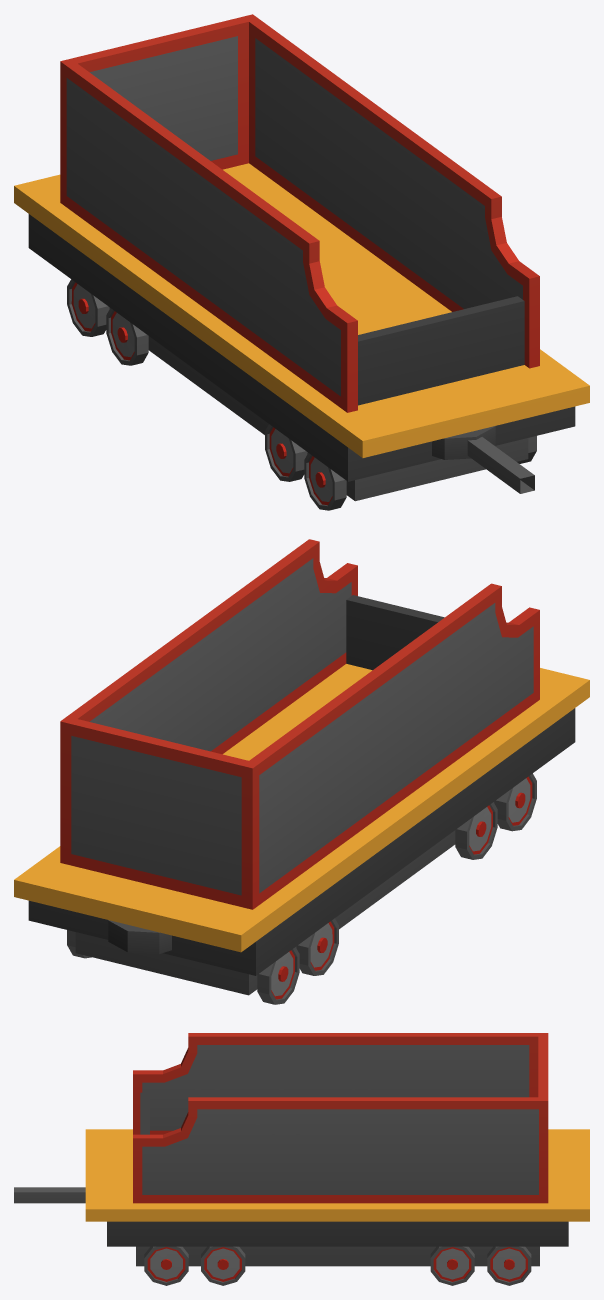
File: freight wagon black.fbx
3 views of the same model, one above another, from view 1: azimuth 30°, elevation 25°; view 2: azimuth 150°, elevation 25°; view 3: azimuth 270°, elevation 25° (orthographic). The views are drawn at different scales.
Parts seen in each view (by area): view 1: freight wagon body, front wheels 2, connecting device, rear wheels 2, rear wheels 1, front wheels 1; view 2: freight wagon body, rear wheels 1, front wheels 1, rear wheels 2, front wheels 2; view 3: freight wagon body, front wheels 1, front wheels 2, rear wheels 1, rear wheels 2, connecting device.
Part boxes in pixels (left/top/right/bottom): freight wagon body: left=14, top=14, right=589, bottom=501; front wheels 2: left=304, top=436, right=536, bottom=510; connecting device: left=467, top=437, right=534, bottom=493; rear wheels 2: left=106, top=308, right=148, bottom=365; rear wheels 1: left=67, top=279, right=109, bottom=336; front wheels 1: left=265, top=424, right=307, bottom=481; freight wagon body: left=14, top=539, right=589, bottom=995; rear wheels 1: left=67, top=930, right=299, bottom=1004; front wheels 1: left=455, top=802, right=497, bottom=859; rear wheels 2: left=296, top=918, right=338, bottom=975; front wheels 2: left=494, top=773, right=536, bottom=831; freight wagon body: left=85, top=1033, right=589, bottom=1266; front wheels 1: left=201, top=1246, right=245, bottom=1285; front wheels 2: left=144, top=1246, right=188, bottom=1285; rear wheels 1: left=487, top=1246, right=531, bottom=1285; rear wheels 2: left=430, top=1246, right=474, bottom=1285; connecting device: left=14, top=1187, right=85, bottom=1203.
Bounding box in the file's own units: 382 × 407 × 1160.
